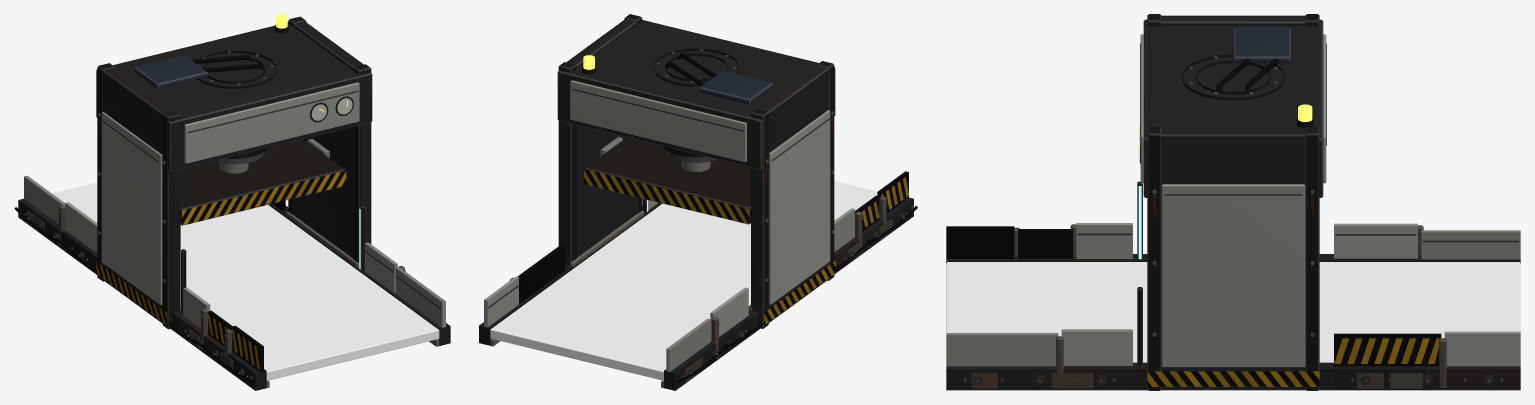
Rendered from plate_press.glb.
3 renders of one model, left to right at view 1: azimuth 30°, elevation 25°; view 2: azimuth 150°, elevation 25°; view 3: azimuth 270°, elevation 25°, orthographic. The views are drawn at different scales.
Parts seen in each view (by area): view 1: Frame, Belt, Ram; view 2: Frame, Belt, Ram; view 3: Frame, Belt.
Part boxes in pixels (box(x1,y1,x2,y2)): Frame: box(14, 14, 450, 390); Belt: box(52, 182, 439, 380); Ram: box(180, 138, 346, 225); Frame: box(479, 14, 917, 390); Belt: box(490, 181, 877, 380); Ram: box(584, 137, 750, 224); Frame: box(946, 14, 1520, 390); Belt: box(946, 262, 1520, 362).
Bounding box in the file's own units: 2.03 × 2.08 × 4.
